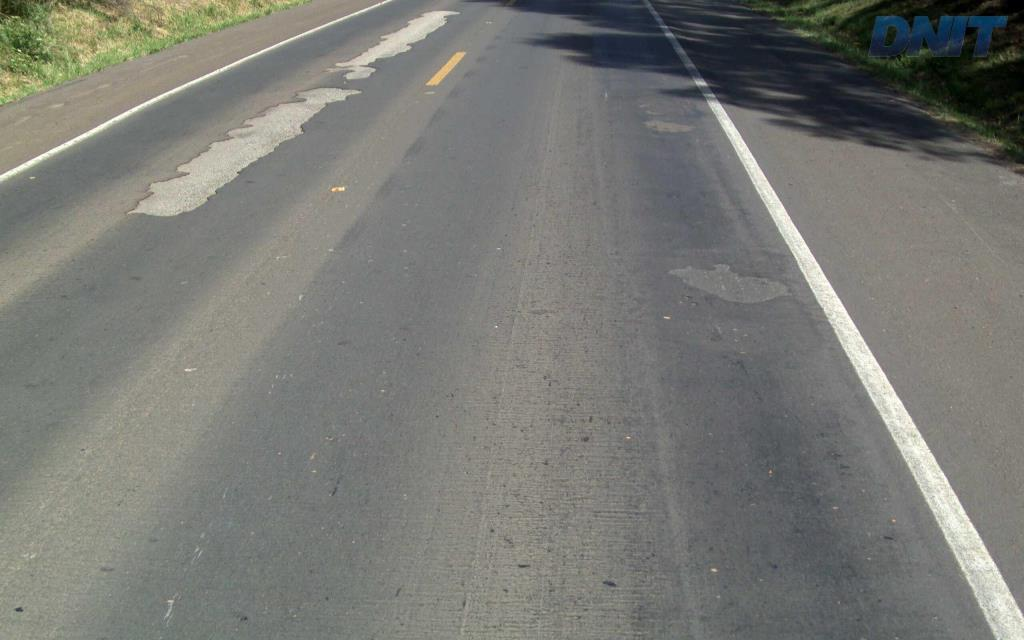pothole: (658, 256, 796, 309), (637, 109, 704, 136)
